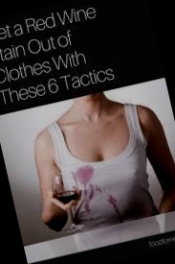wine: (99, 184, 132, 224), (77, 182, 103, 220), (67, 162, 101, 190)
